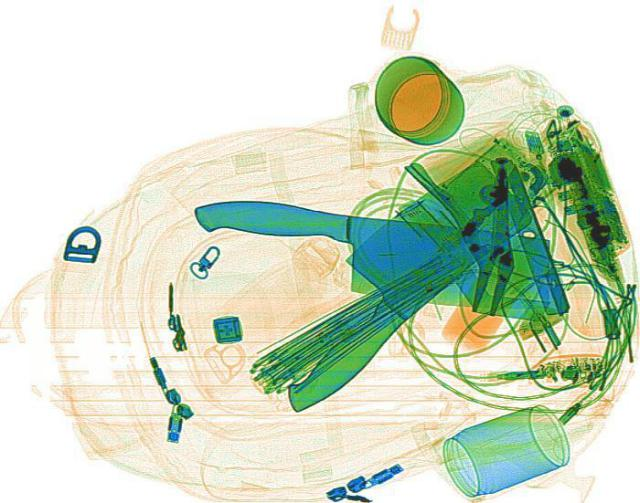Knife: (220, 151, 550, 414), (176, 188, 558, 317), (471, 165, 524, 316)
